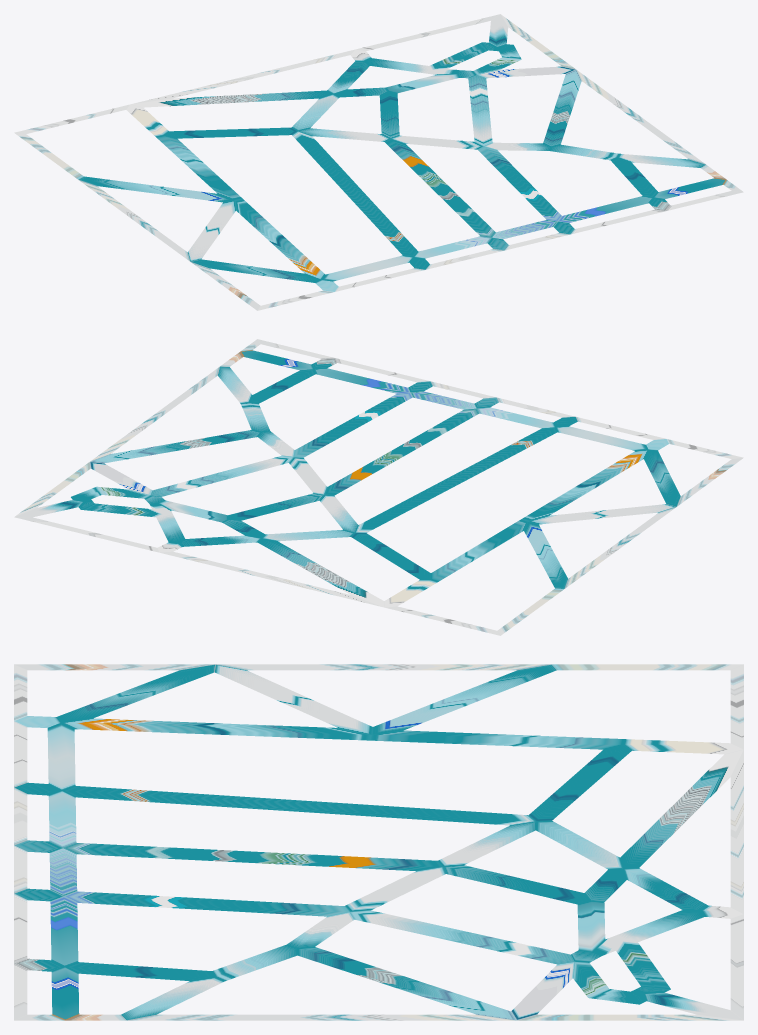
File: StreetsBlocking.fbx
3 renders of one model, top to bottom at view 1: azimuth 30°, elevation 25°; view 2: azimuth 150°, elevation 25°; view 3: azimuth 270°, elevation 25°, orthographic. The views are drawn at different scales.
Parts seen in each view (by area): view 1: StreetsBase; view 2: StreetsBase; view 3: StreetsBase.
Part boxes in pixels (box(x1,y1,x2,y2)): StreetsBase: box(14, 14, 743, 310); StreetsBase: box(14, 339, 743, 635); StreetsBase: box(14, 664, 743, 1020).
Size of the model in its own units: 2550 by 4.95e-14 by 2210.
Materials: 1 (1 with a texture image).
